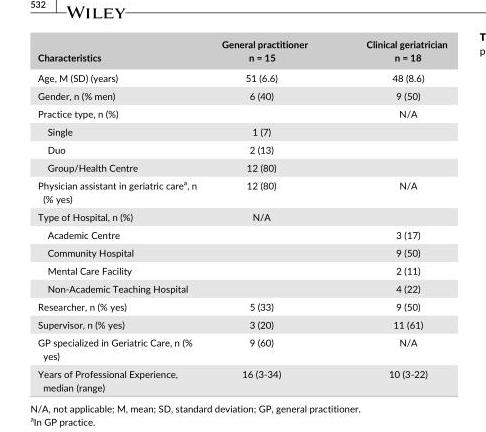table: (37, 37, 446, 392)
table column: (37, 37, 208, 392), (208, 37, 336, 392), (336, 37, 446, 392)
table column header: (37, 37, 446, 67)
table row: (37, 175, 446, 207), (37, 332, 446, 364), (37, 37, 446, 67), (37, 364, 446, 392), (37, 67, 446, 86), (37, 86, 446, 104), (37, 104, 446, 122), (37, 122, 446, 140), (37, 157, 446, 175), (37, 207, 446, 225), (37, 225, 446, 243), (37, 243, 446, 261), (37, 261, 446, 279), (37, 279, 446, 297), (37, 314, 446, 332), (37, 140, 446, 157), (37, 297, 446, 314)
